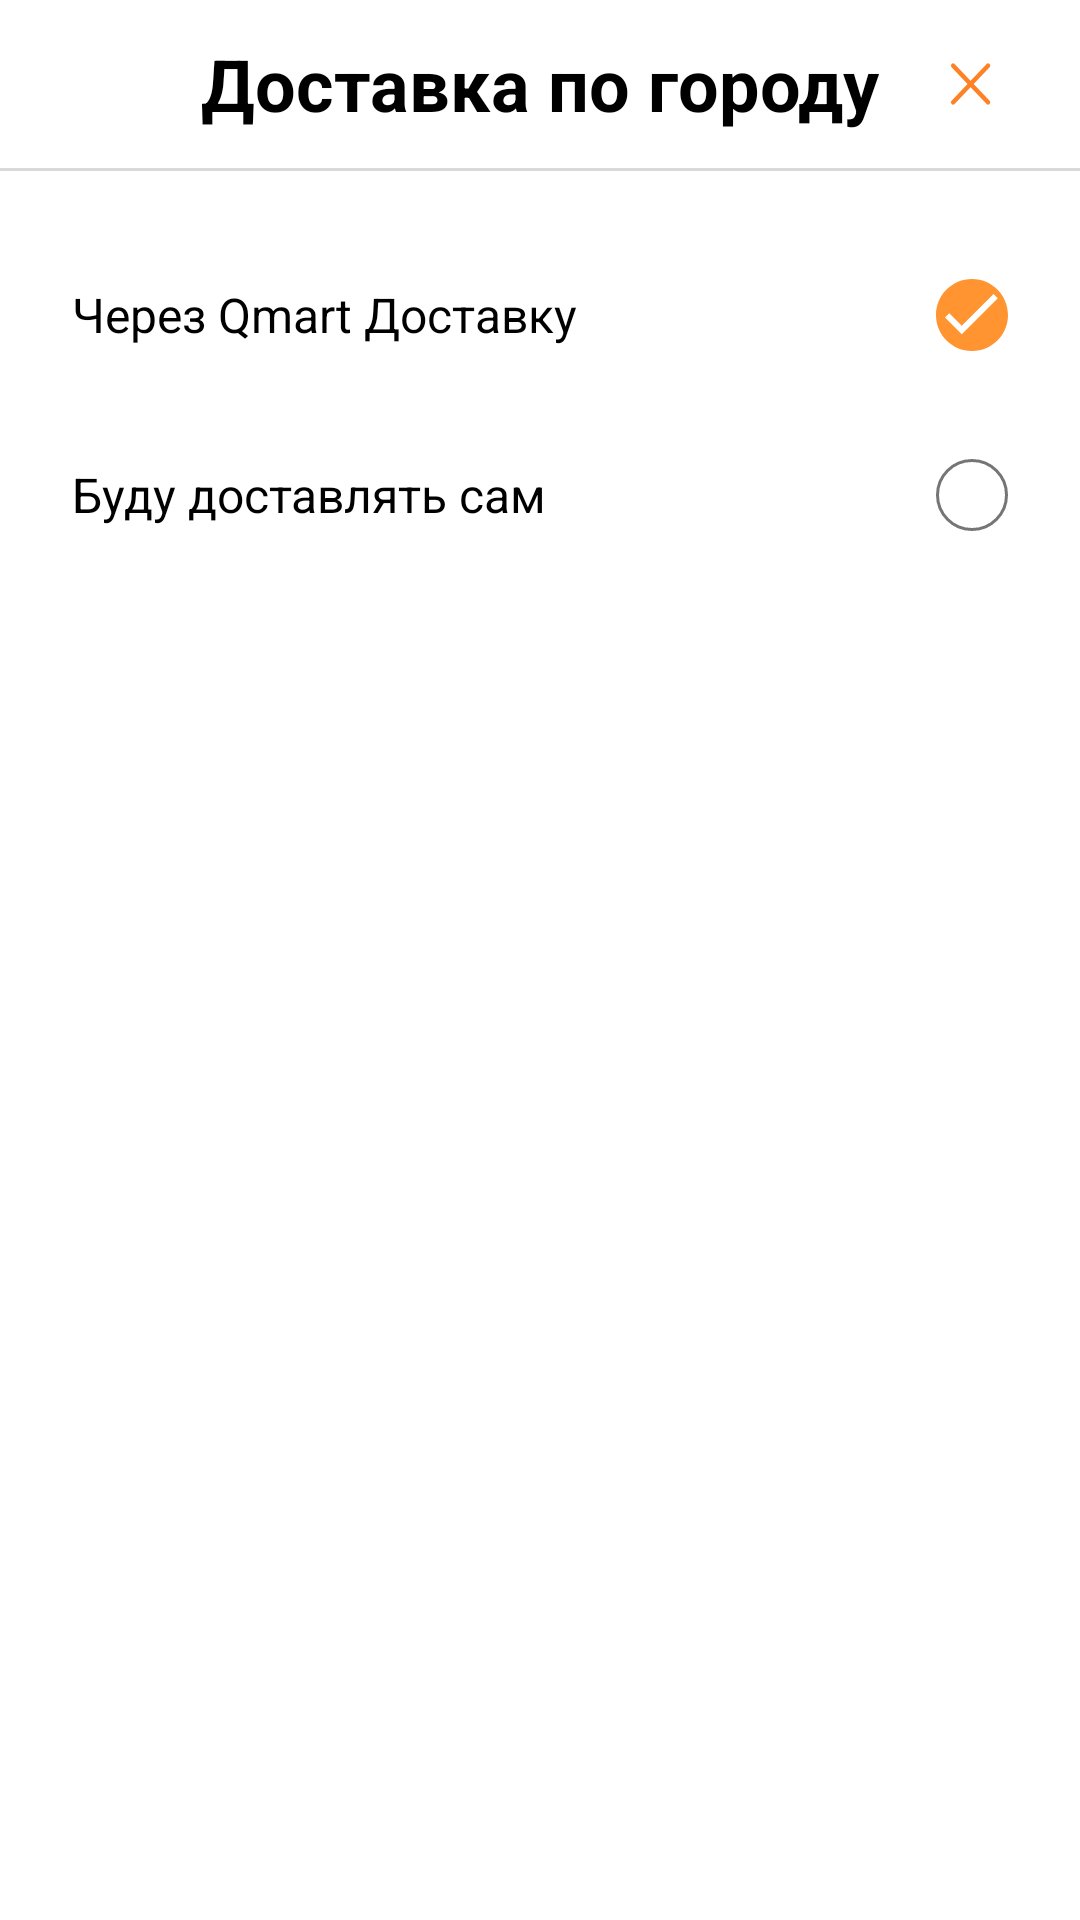

Named icons in this screenshot (1080×1920) and their centers, [x,y]:
close: [971,84]
